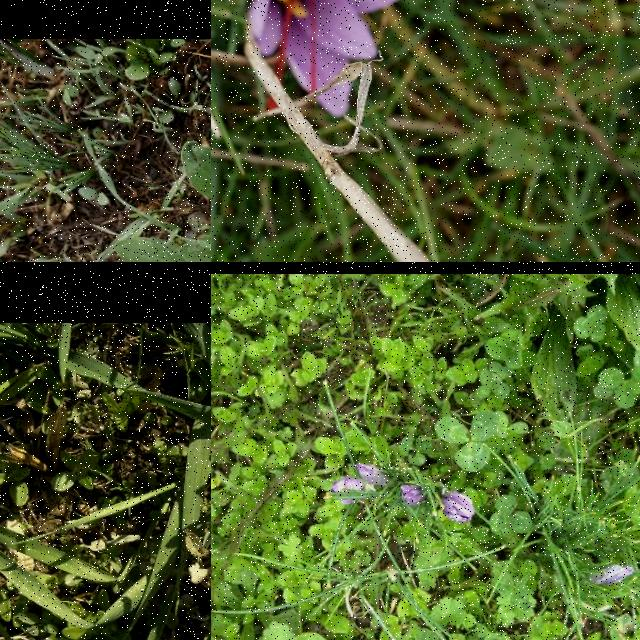flower: (245, 0, 413, 117), (442, 493, 476, 523), (591, 566, 635, 584), (399, 484, 428, 506)
overlap: (331, 464, 392, 506)
